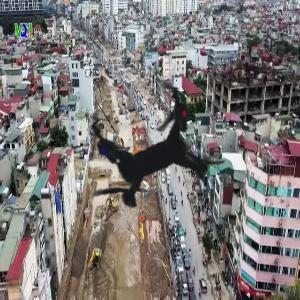drone: (27, 36, 271, 280)
